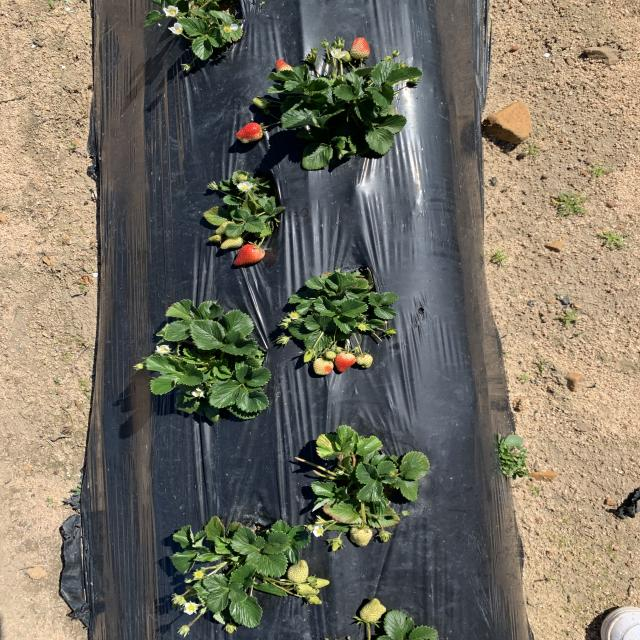unripe: (232, 240, 268, 268), (333, 351, 356, 373)
